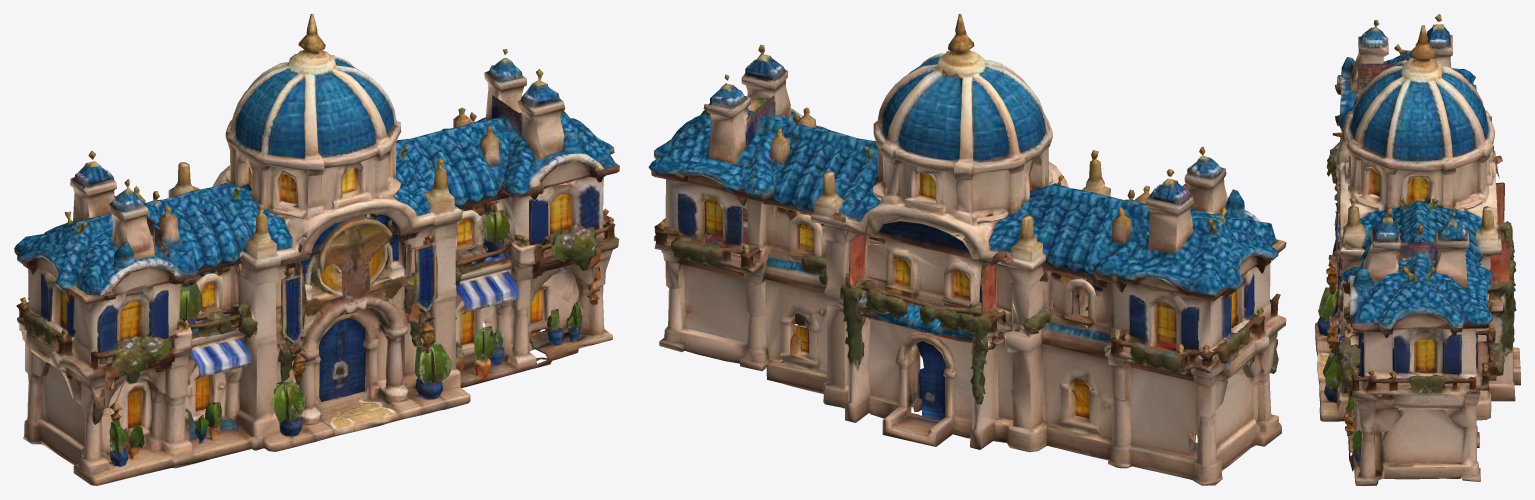
3 views of the same model, side by side, from view 1: azimuth 30°, elevation 25°; view 2: azimuth 150°, elevation 25°; view 3: azimuth 270°, elevation 25° (orthographic). The views are drawn at different scales.
Parts seen in each view (by area): view 1: harbor__finance_3__native_mobile; view 2: harbor__finance_3__native_mobile; view 3: harbor__finance_3__native_mobile.
Part boxes in pixels (x1,y1,x2,y2): harbor__finance_3__native_mobile: (14,14,619,485); harbor__finance_3__native_mobile: (648,14,1286,485); harbor__finance_3__native_mobile: (1315,14,1520,485).
Size of the model in its own units: 1 by 0.6395 by 0.34.
1 material, 1 textured.
